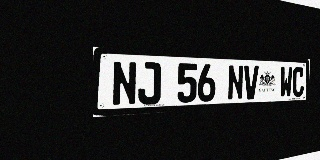5: (177, 63, 197, 103)
6: (197, 64, 216, 102)
C: (292, 67, 304, 97)
J: (138, 62, 161, 105)
N: (112, 61, 137, 106), (227, 65, 244, 100)
V: (244, 65, 259, 100)
W: (280, 66, 292, 98)
